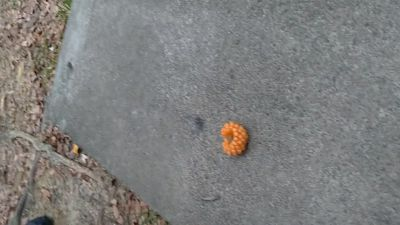eggs: (220, 120, 249, 158)
